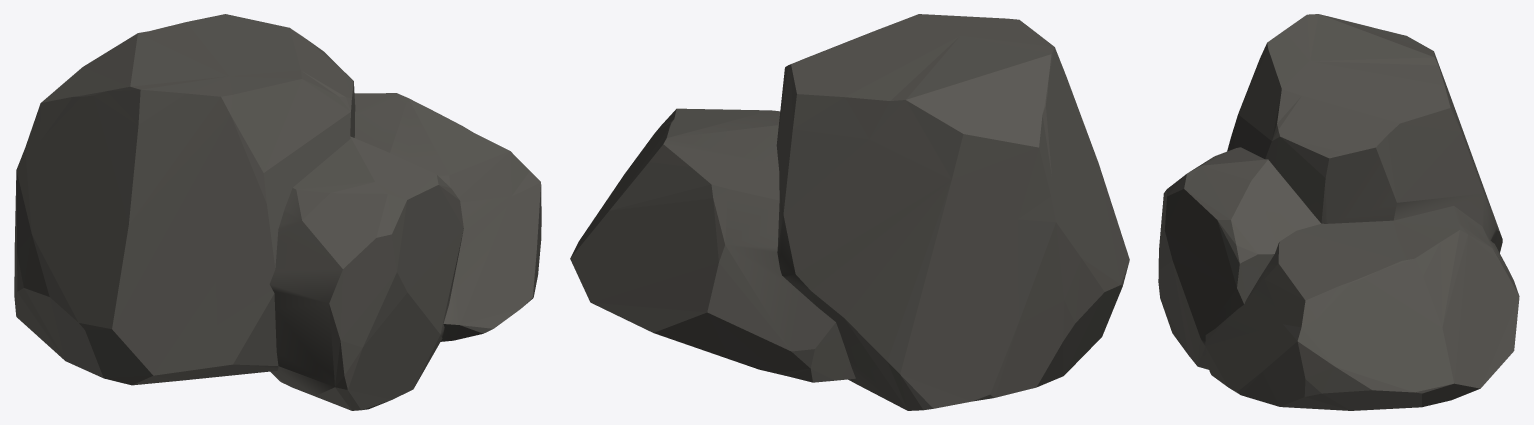
The model's file is SM_Env_Rock_07.fbx.
The picture shows the model from 3 angles, left to right: view 1: azimuth 30°, elevation 25°; view 2: azimuth 150°, elevation 25°; view 3: azimuth 270°, elevation 25°; orthographic projection. The views are drawn at different scales.
Parts seen in each view (by area): view 1: SM_Env_Rock_07; view 2: SM_Env_Rock_07; view 3: SM_Env_Rock_07.
Part boxes in pixels (x1,y1,x2,y2): SM_Env_Rock_07: (14,14,541,410); SM_Env_Rock_07: (570,14,1129,410); SM_Env_Rock_07: (1158,14,1519,410).
Bounding box in the file's own units: 480 × 293 × 364.
Materials: 1 (1 with a texture image).
